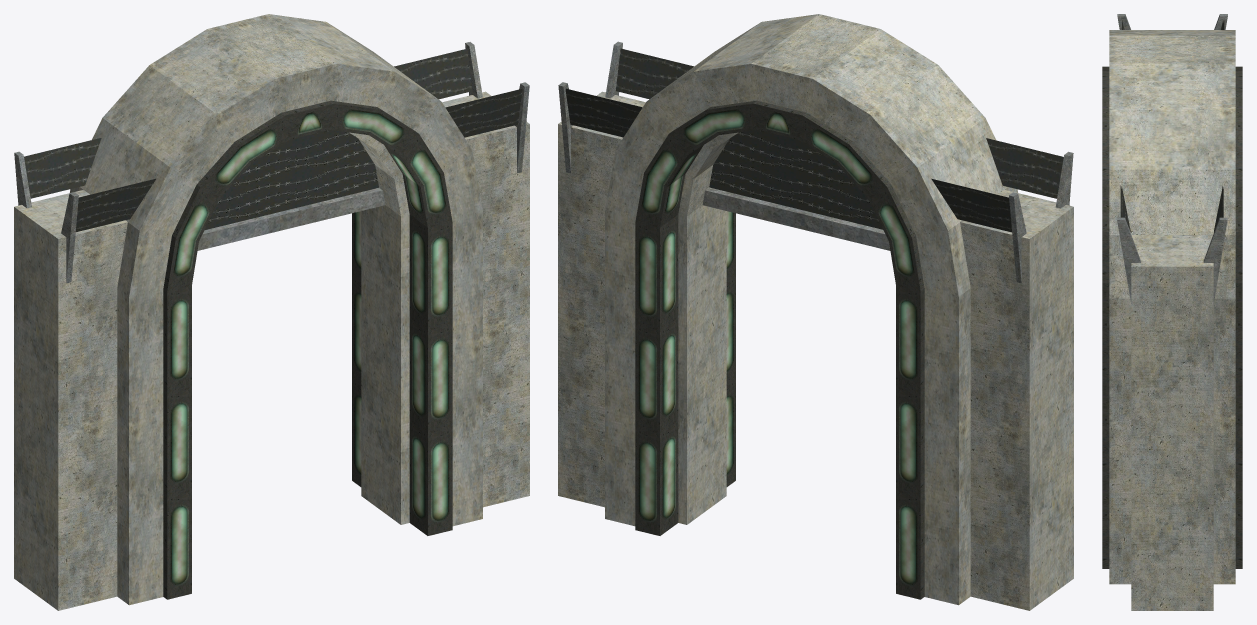
Rendered from thm_corl_imprv_gate_sm_s03_l0.fbx.
3 views of the same model, side by side, from view 1: azimuth 30°, elevation 25°; view 2: azimuth 150°, elevation 25°; view 3: azimuth 270°, elevation 25° (orthographic). The views are drawn at different scales.
Visible parts, largest first — view 1: mesh_node; view 2: mesh_node; view 3: mesh_node.
Part boxes in pixels (<box>): mesh_node: <box>14,14,529,610</box>; mesh_node: <box>558,14,1073,610</box>; mesh_node: <box>1102,14,1242,610</box>.
Size of the model in its own units: 8 by 7.95 by 2.23.
